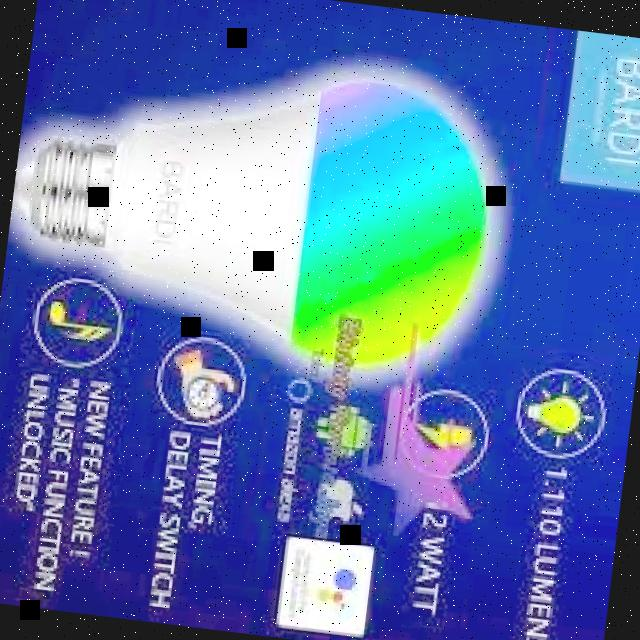light_bulb: (2, 27, 526, 394)
